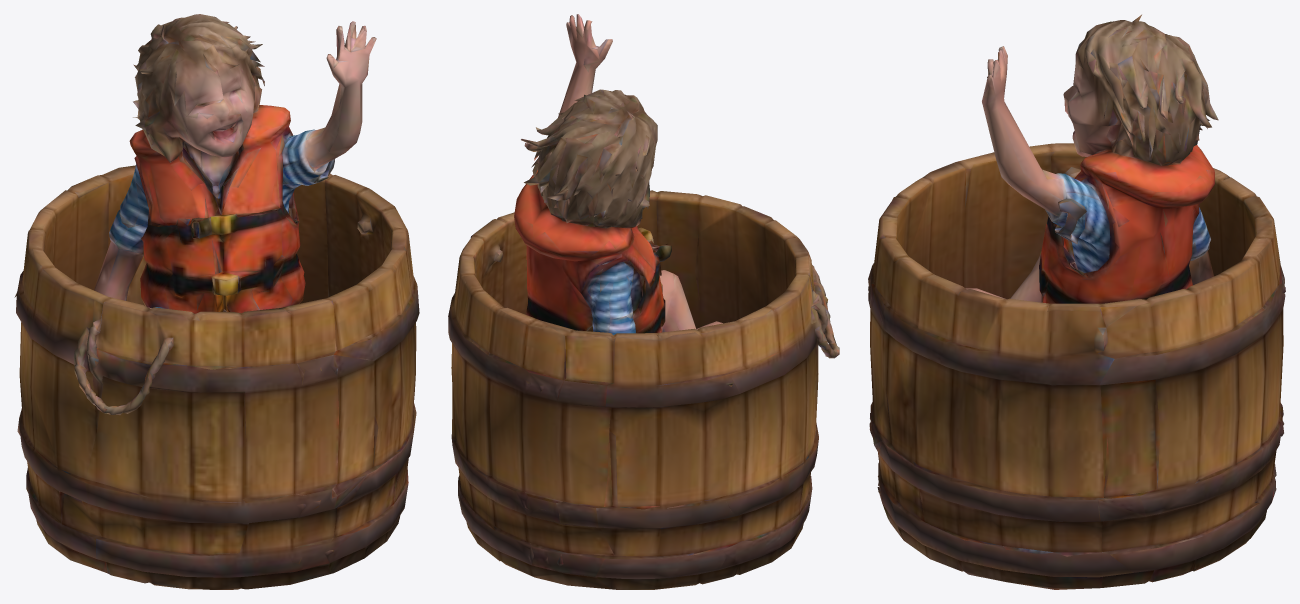
Rendered from rescue-barrel.glb.
3 renders of one model, left to right at view 1: azimuth 30°, elevation 25°; view 2: azimuth 150°, elevation 25°; view 3: azimuth 270°, elevation 25°, orthographic. The views are drawn at different scales.
Visible parts, largest first — view 1: Mesh_0; view 2: Mesh_0; view 3: Mesh_0.
Boxes of the visible parts, box(x1,y1,x2,y2) form: Mesh_0: box(14, 14, 419, 589); Mesh_0: box(448, 14, 839, 589); Mesh_0: box(868, 14, 1285, 589).
Bounding box in the file's own units: 1.4 × 1.9 × 1.41.
Materials: 1 (1 with a texture image).
